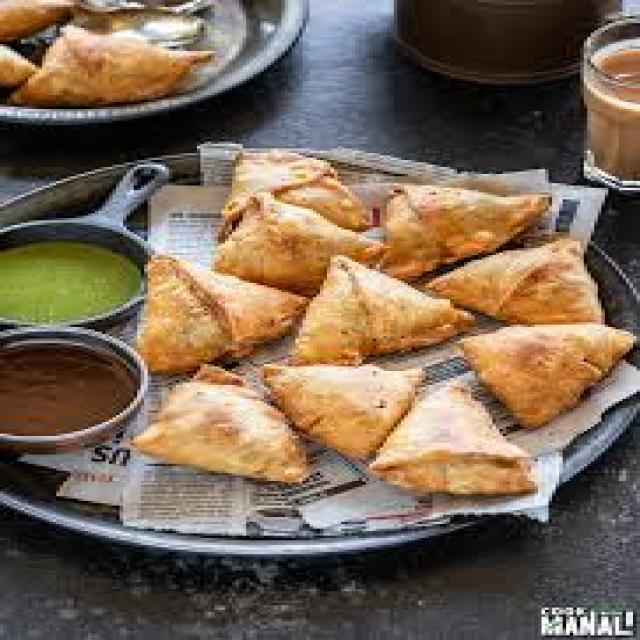SAMOSA: (135, 251, 313, 383), (137, 367, 317, 485), (381, 374, 553, 494), (370, 188, 555, 280), (295, 254, 454, 357), (475, 328, 633, 431), (271, 365, 426, 468), (212, 202, 381, 288), (446, 240, 592, 326), (221, 152, 358, 225)
